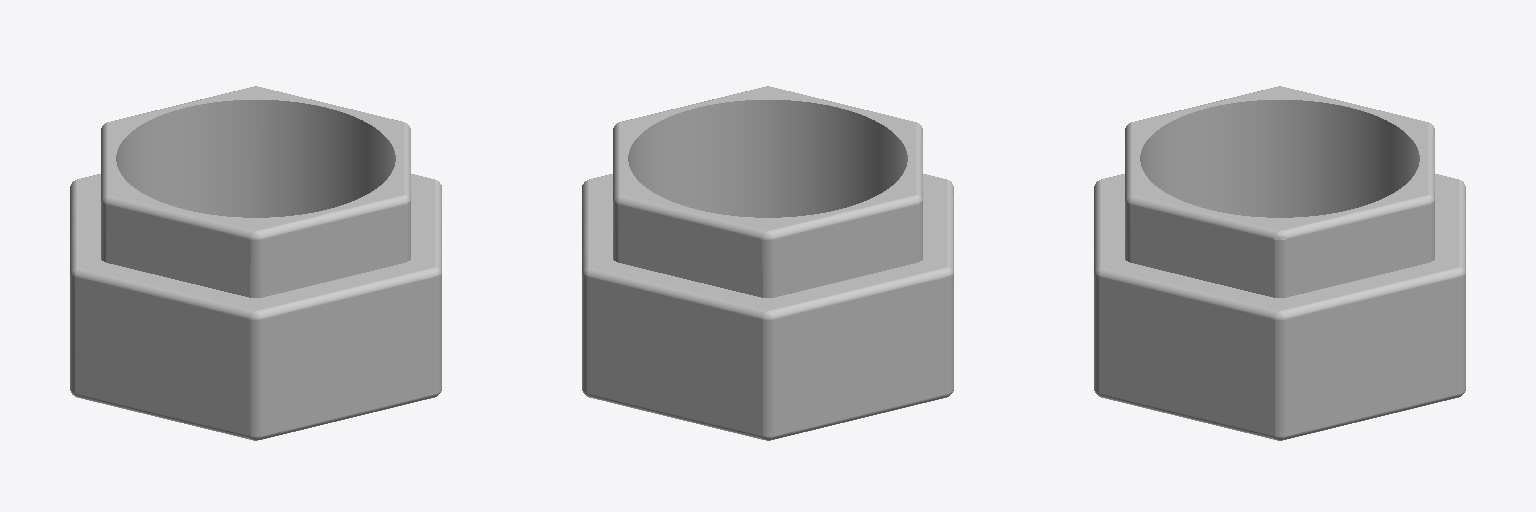
File: HoneyCombPiece_Wall_3.obj
The picture shows the model from 3 angles: view 1: azimuth 30°, elevation 25°; view 2: azimuth 150°, elevation 25°; view 3: azimuth 270°, elevation 25°; orthographic projection.
Parts seen in each view (by area): view 1: wall.001_Curve.034; view 2: wall.001_Curve.034; view 3: wall.001_Curve.034.
Part boxes in pixels (bbox=[...]): wall.001_Curve.034: bbox=[70, 86, 441, 440]; wall.001_Curve.034: bbox=[582, 86, 953, 440]; wall.001_Curve.034: bbox=[1094, 86, 1465, 440].
Size of the model in its own units: 0.0297 by 0.015 by 0.026.